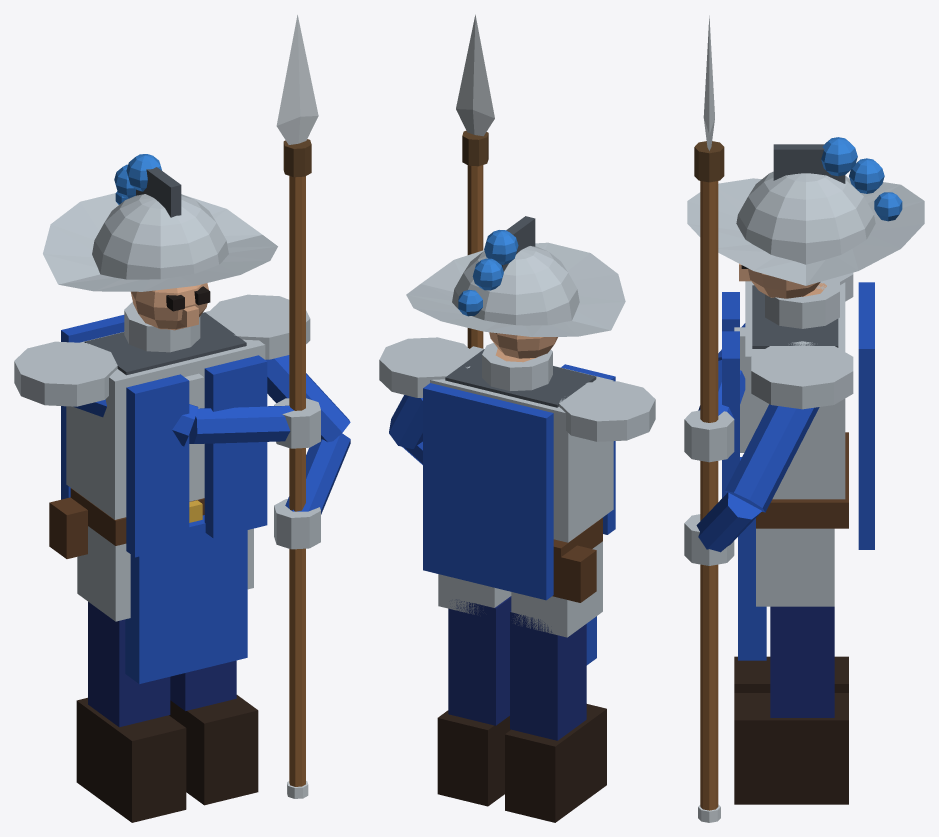
Rendered from soldier_blue.glb.
3 views of the same model, side by side, from view 1: azimuth 30°, elevation 25°; view 2: azimuth 150°, elevation 25°; view 3: azimuth 270°, elevation 25° (orthographic). The views are drawn at different scales.
Parts seen in each view (by area): view 1: Body, Pike; view 2: Body, Pike; view 3: Body, Pike.
Part boxes in pixels (x1,y1,x2,y2): Body: [14, 154, 350, 822]; Pike: [276, 15, 318, 798]; Body: [379, 216, 655, 822]; Pike: [456, 14, 494, 348]; Body: [684, 137, 924, 804]; Pike: [694, 15, 724, 822].
Size of the model in its own units: 1.01 by 2.48 by 0.6715.
